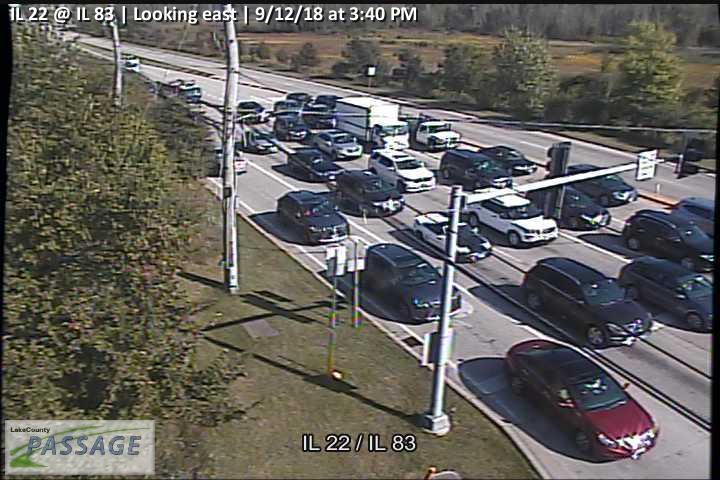SUV: (521, 256, 653, 347), (364, 242, 463, 323), (624, 208, 716, 272), (463, 187, 560, 247), (277, 189, 351, 245), (335, 169, 405, 216), (367, 148, 436, 192), (438, 148, 513, 188), (671, 197, 717, 235), (273, 115, 311, 141)
Sedan: (505, 338, 659, 461), (620, 255, 714, 332), (526, 183, 612, 230), (413, 212, 492, 262), (568, 164, 638, 207), (287, 149, 343, 182), (479, 145, 538, 175), (312, 128, 363, 159), (241, 129, 281, 154)
Truck: (336, 95, 410, 154)
